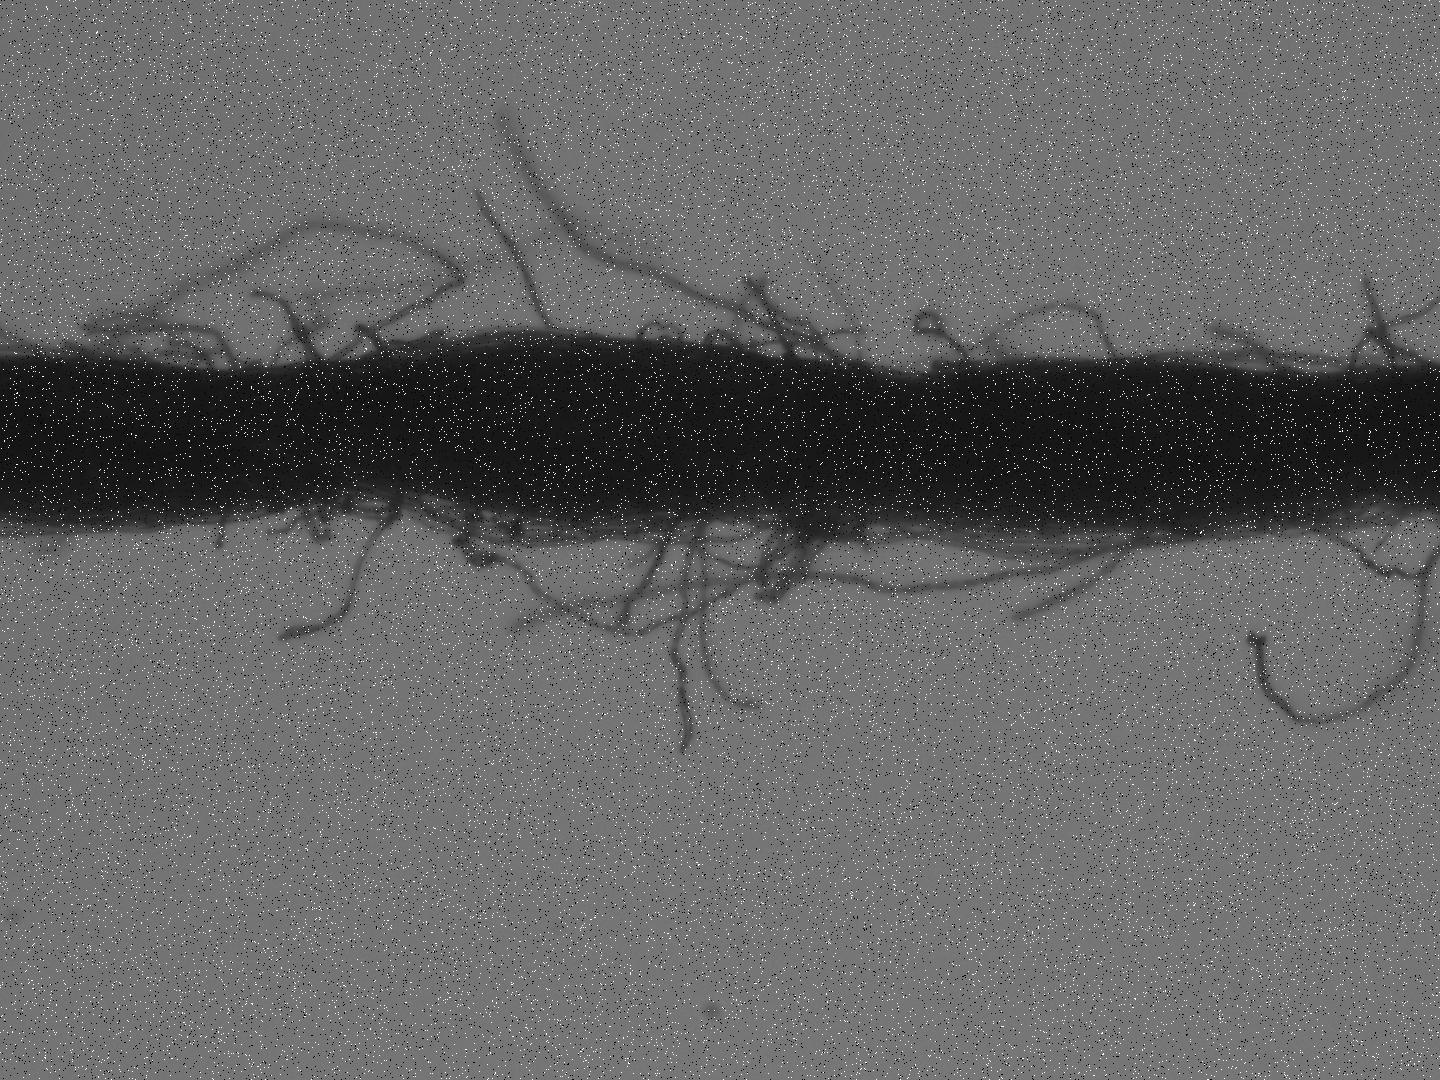loop_fiber: (455, 503, 814, 642), (932, 522, 1192, 560), (735, 339, 887, 372), (1352, 324, 1434, 374), (773, 501, 870, 542), (315, 486, 404, 524), (1290, 500, 1388, 533), (1347, 490, 1421, 531), (874, 509, 965, 537), (701, 326, 752, 358), (636, 315, 691, 346), (190, 345, 235, 370)
protruding_fiber: (285, 481, 409, 648), (1007, 520, 1152, 625), (477, 187, 561, 337), (671, 520, 714, 752), (209, 504, 231, 556)
